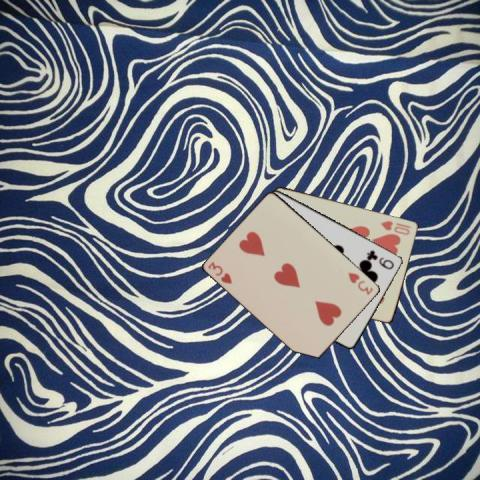10h: (378, 217, 412, 236)
3h: (345, 269, 375, 296), (205, 259, 234, 285)
9c: (364, 247, 395, 271)
